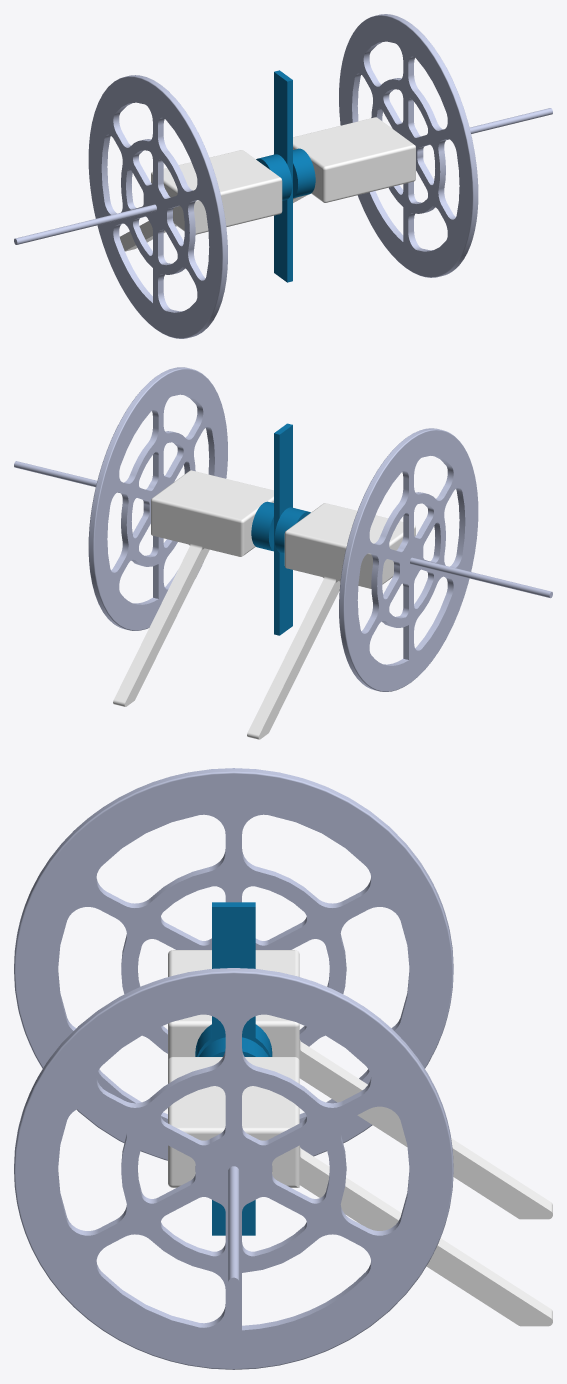
File: Huge Assembly FBX.fbx
The picture shows the model from 3 angles, top to bottom: view 1: azimuth 30°, elevation 25°; view 2: azimuth 150°, elevation 25°; view 3: azimuth 270°, elevation 25°; orthographic projection. The views are drawn at different scales.
Visible parts, largest first — view 1: Body1 (×4), Body2; view 2: Body1 (×4), Body2; view 3: Body1 (×4), Body2.
Boxes of the visible parts, x1,y1,x2,y2 form: Body1 (×4): (14, 14, 552, 338); Body2: (120, 150, 282, 251); Body1 (×4): (14, 367, 552, 706); Body2: (247, 503, 415, 739); Body1 (×4): (14, 768, 552, 1369); Body2: (168, 950, 552, 1219).
Size of the model in its own units: 92 by 40 by 49.04.
